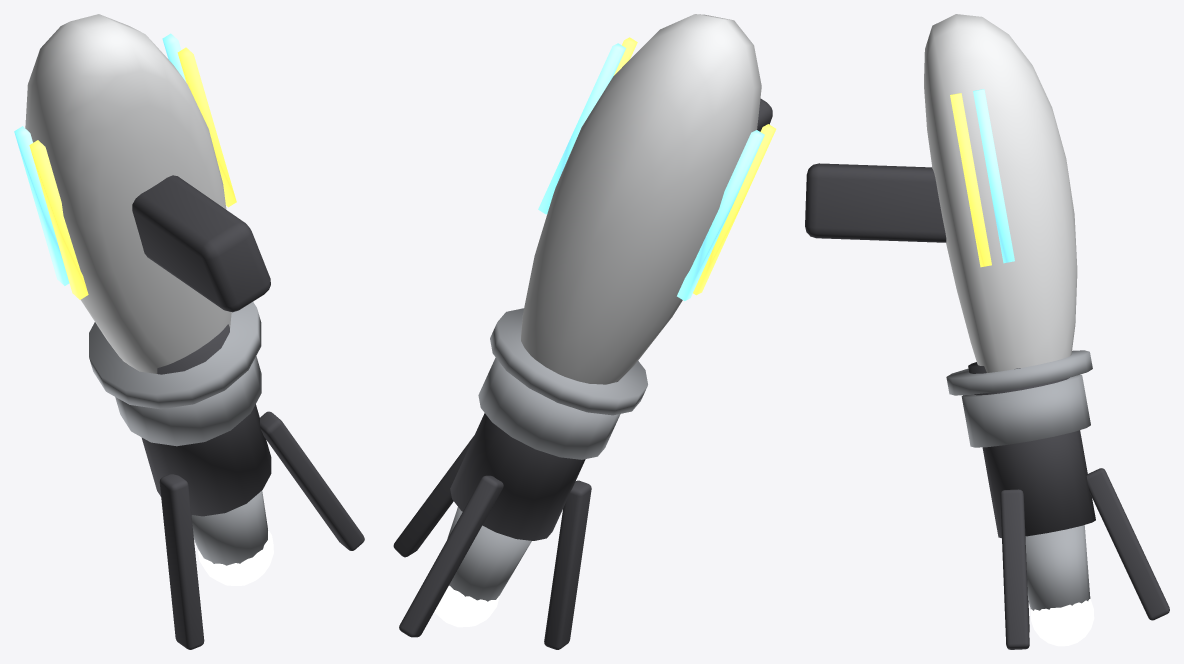
The model's file is gun_held.gltf.
3 views of the same model, side by side, from view 1: azimuth 30°, elevation 25°; view 2: azimuth 150°, elevation 25°; view 3: azimuth 270°, elevation 25° (orthographic). The views are drawn at different scales.
Visible parts, largest first — view 1: gun; view 2: gun; view 3: gun.
Boxes of the visible parts, x1,y1,x2,y2 form: gun: [14, 14, 364, 649]; gun: [393, 14, 776, 649]; gun: [805, 14, 1169, 649].
Bounding box in the file's own units: 0.2411 × 0.4264 × 0.2504.
